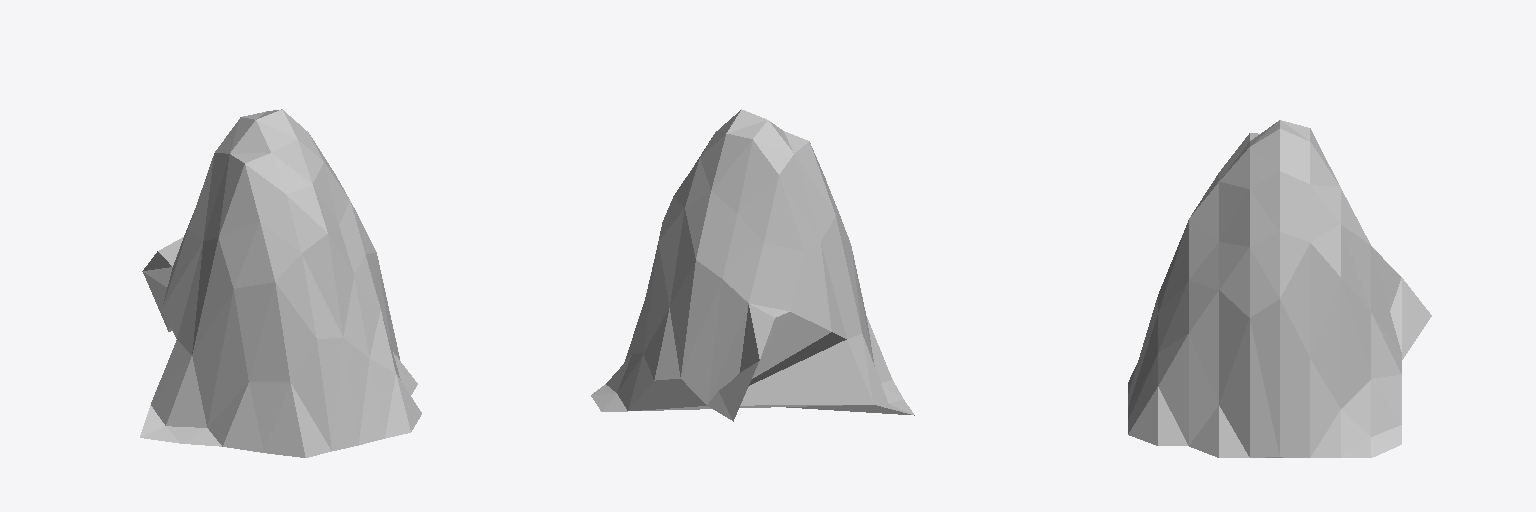
The model's file is tree_50.obj.
3 renders of one model, left to right at view 1: azimuth 30°, elevation 25°; view 2: azimuth 150°, elevation 25°; view 3: azimuth 270°, elevation 25°, orthographic.
Parts seen in each view (by area): view 1: tree_50_minus_dtm; view 2: tree_50_minus_dtm; view 3: tree_50_minus_dtm.
Boxes of the visible parts, x1,y1,x2,y2 form: tree_50_minus_dtm: [140, 109, 421, 457]; tree_50_minus_dtm: [591, 109, 914, 421]; tree_50_minus_dtm: [1128, 120, 1431, 457].
Size of the model in its own units: 10 by 10.17 by 10.